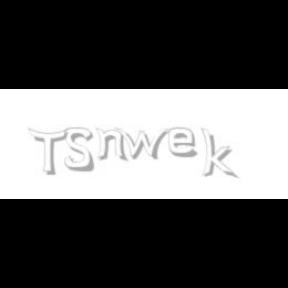S: (64, 128, 96, 172)
T: (28, 128, 68, 176)
e: (169, 128, 202, 158)
k: (200, 128, 238, 180)
n: (95, 128, 129, 162)
w: (114, 128, 174, 160)
